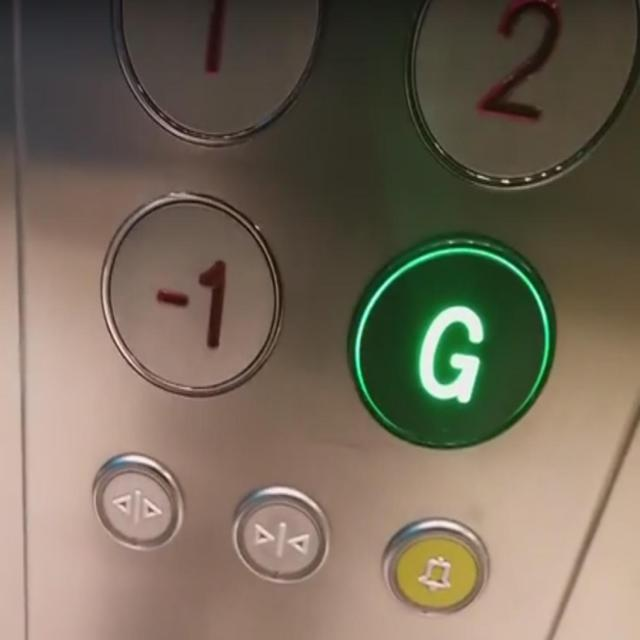-1: (101, 190, 285, 398)
2: (404, 3, 640, 190)
G: (348, 234, 558, 448)
alarm: (380, 513, 488, 611)
close: (228, 485, 332, 583)
open: (91, 452, 184, 548)
